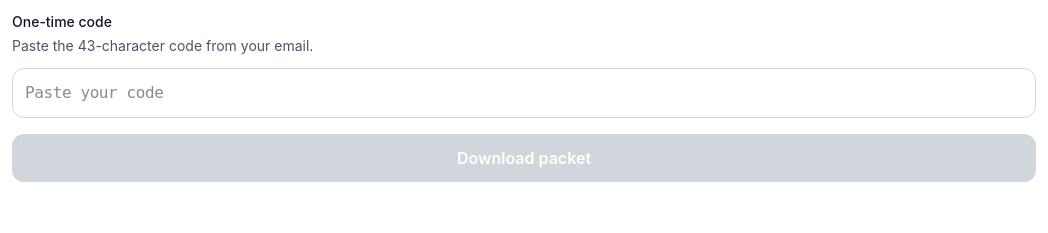
Test: refusals are coarse and the input is still cleared › shows a message for TEMPORARILY_UNAVAILABLE
Type "Zm9vYmFyYmF6cXV1eGNvcmdlZ3JhdWx0Z2FycGx5Z2g" into the field labelled "One-time code".
click(524, 93); type("Zm9vYmFyYmF6cXV1eGNvcmdlZ3JhdWx0Z2FycGx5Z2g")  # box [12,68,1036,118]
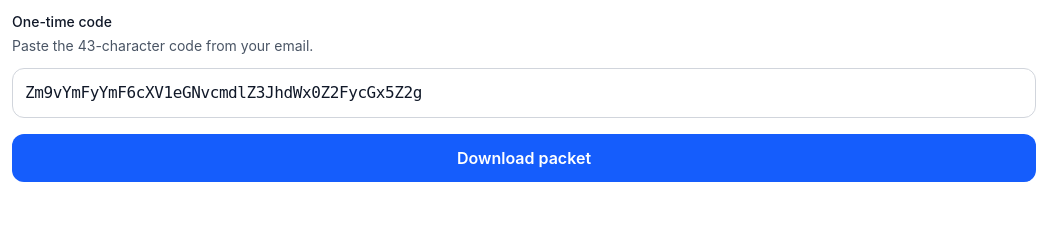
Click the button "Download packet".
click(524, 158)  # box [12,134,1036,182]
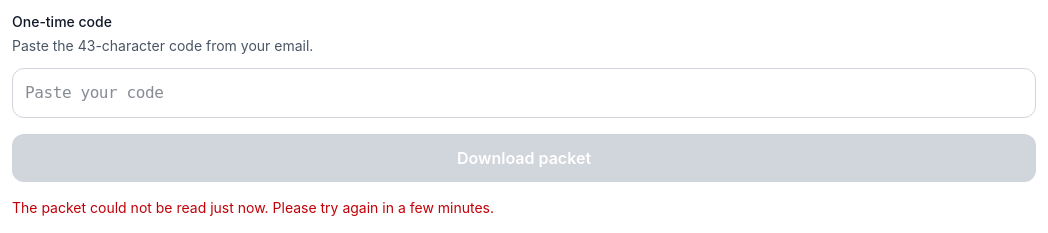
Check: the text "try again in a few minutes" is shown, box [12,199,494,216]
Check: the field labelled "One-time code" is empty, box [12,68,1036,118]
